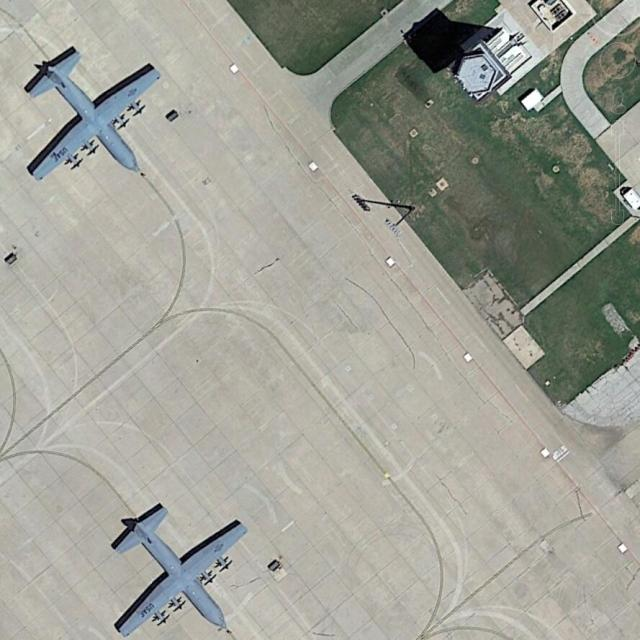fighter jet: (107, 496, 249, 638), (20, 47, 160, 174)
